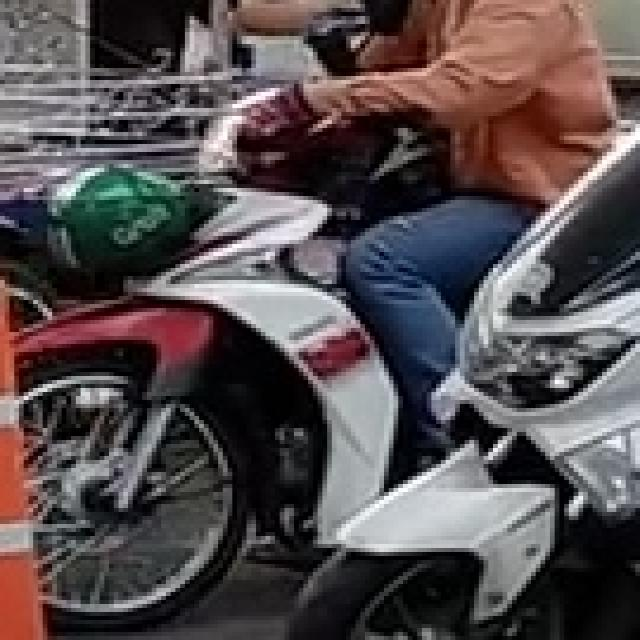door: (0, 264, 57, 636)
helmet: (42, 160, 208, 276)
tyre: (10, 364, 252, 628)
